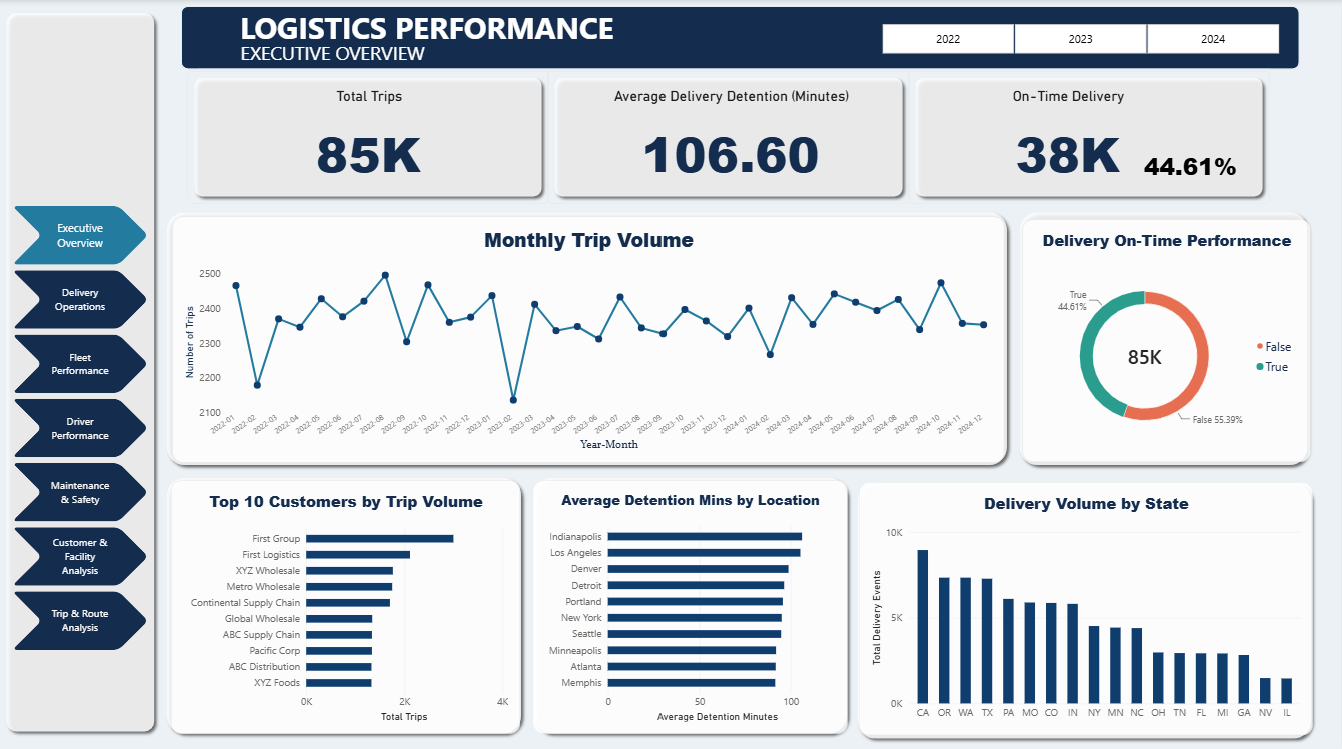

The page's visual inventory and layout, read from the dashboard file:
{"tool":"powerbi","page":{"name":"Executive Overview","canvas":[1920,1080],"ordinal":0},"visuals":[{"type":"shape","box":[0,10,230,1047.5],"z":0},{"type":"shape","box":[259,10.3,1600,90],"z":1000},{"type":"shape","box":[267.5,102.5,517.5,190],"z":2000},{"type":"shape","box":[230,297.5,1220,380],"z":3000},{"type":"shape","box":[756.9,676.5,464.7,384.3],"z":4000},{"type":"shape","box":[229.4,676.5,525.5,384.3],"z":5000},{"type":"shape","box":[1450,296.7,430,380],"z":6000},{"type":"shape","box":[1217.5,682.5,667.5,385],"z":7000},{"type":"textbox","box":[230,10,762.5,70],"z":8000},{"type":"textbox","box":[260,57.5,432.5,42.5],"z":9000},{"type":"cardVisual","title":"Total Trips","fields":{"Data":["All Measures.Total Trips"]},"box":[285,127.5,485,147.5],"z":11000},{"type":"shape","box":[1300,102.5,517.5,190],"z":12000},{"type":"cardVisual","title":"On-Time Delivery","fields":{"Data":["All Measures.On-Time Deliveries"]},"box":[1322.5,127.5,410,147.5],"z":13000},{"type":"cardVisual","title":"Total Trips","fields":{"Data":["All Measures.Delivery On-Time Rate"]},"box":[1587.5,187.5,232.5,102.5],"z":14000},{"type":"lineChart","title":"Monthly Trip Volume","fields":{"Category":["Calendar.Year-Month"],"Y":["All Measures.Total Trips"]},"box":[247.5,312.5,1190,352.5],"z":15000},{"type":"barChart","title":"Top 10 Customers by Trip Volume","fields":{"Category":["customers.customer_name"],"Y":["All Measures.Total Trips"]},"box":[245,690,500,362.5],"z":16000},{"type":"donutChart","title":"Delivery On-Time Performance","fields":{"Category":["delivery_events.on_time_flag"],"Y":["All Measures.Total Delivery Events"]},"box":[1462.5,315,412.5,347.5],"z":17000},{"type":"clusteredBarChart","title":"Average Detention Mins by Location","fields":{"Category":["delivery_events.location_city"],"Y":["All Measures.Average Detention Minutes"]},"box":[762.5,690,450,362.5],"z":18000},{"type":"clusteredColumnChart","title":"Delivery Volume by State","fields":{"Category":["delivery_events.location_state"],"Y":["All Measures.Total Delivery Events"]},"box":[1230,692.5,650,362.5],"z":19000},{"type":"shape","box":[785,102.5,517.5,190],"z":20000},{"type":"cardVisual","title":"Average Delivery Detention (Minutes)","fields":{"Data":["All Measures.Average Delivery Detention"]},"box":[802.5,127.5,485,147.5],"z":21000},{"type":"pageNavigator","box":[17.5,297.5,195,637.5],"z":22000},{"type":"slicer","fields":{"Values":["Calendar.Year"]},"box":[1242.5,35,607.5,45],"z":22001}]}

Visuals, with their boxes in screenshot pixels (x1, y1, x2, y2), scaled from the page's 1920x1080 canvas onto the 1342x749 screenshot:
shape: pyautogui.locateOnScreen(0, 7, 161, 733)
shape: pyautogui.locateOnScreen(181, 7, 1299, 70)
shape: pyautogui.locateOnScreen(187, 71, 549, 203)
shape: pyautogui.locateOnScreen(161, 206, 1013, 470)
shape: pyautogui.locateOnScreen(529, 469, 854, 736)
shape: pyautogui.locateOnScreen(160, 469, 528, 736)
shape: pyautogui.locateOnScreen(1013, 206, 1314, 469)
shape: pyautogui.locateOnScreen(851, 473, 1318, 740)
textbox: pyautogui.locateOnScreen(161, 7, 694, 55)
textbox: pyautogui.locateOnScreen(182, 40, 484, 69)
"Total Trips" cardVisual: pyautogui.locateOnScreen(199, 88, 538, 191)
shape: pyautogui.locateOnScreen(909, 71, 1270, 203)
"On-Time Delivery" cardVisual: pyautogui.locateOnScreen(924, 88, 1211, 191)
"Total Trips" cardVisual: pyautogui.locateOnScreen(1110, 130, 1272, 201)
"Monthly Trip Volume" lineChart: pyautogui.locateOnScreen(173, 217, 1005, 461)
"Top 10 Customers by Trip Volume" barChart: pyautogui.locateOnScreen(171, 479, 521, 730)
"Delivery On-Time Performance" donutChart: pyautogui.locateOnScreen(1022, 218, 1311, 459)
"Average Detention Mins by Location" clusteredBarChart: pyautogui.locateOnScreen(533, 479, 847, 730)
"Delivery Volume by State" clusteredColumnChart: pyautogui.locateOnScreen(860, 480, 1314, 732)
shape: pyautogui.locateOnScreen(549, 71, 910, 203)
"Average Delivery Detention (Minutes)" cardVisual: pyautogui.locateOnScreen(561, 88, 900, 191)
pageNavigator: pyautogui.locateOnScreen(12, 206, 149, 648)
slicer - Calendar.Year: pyautogui.locateOnScreen(868, 24, 1293, 55)
